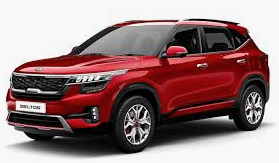car: (5, 16, 271, 156)
